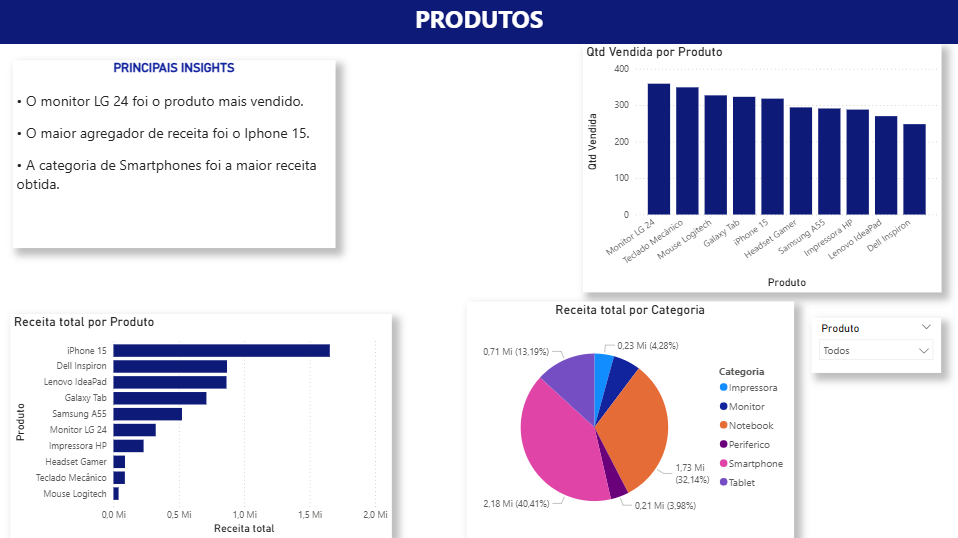

What the dashboard file says about the page in this screenshot:
{"tool":"powerbi","page":{"name":"Produtos","canvas":[1280,720],"ordinal":2},"visuals":[{"type":"textbox","box":[0,0,1280,60],"z":0},{"type":"clusteredBarChart","fields":{"Category":["Produtos.Produto"],"Y":["Vendas.Receita total"]},"box":[14.7,420.7,508.7,299.6],"z":1000},{"type":"columnChart","fields":{"Category":["Produtos.Produto"],"Y":["Vendas.Qtd Vendida"]},"box":[777.7,59.9,478.1,331.4],"z":2000},{"type":"pieChart","fields":{"Y":["Vendas.Receita total"],"Series":["Produtos.Categoria"]},"box":[623.6,403.5,436.6,316.7],"z":3000},{"type":"slicer","fields":{"Values":["Produtos.Produto"]},"box":[1083.4,424.3,172.4,73.4],"z":4000},{"type":"textbox","title":"PRINCIPAIS INSIGHTS","box":[17.5,81.2,430,250],"z":4001}]}

Visuals, with their boxes in screenshot pixels (x1, y1, x2, y2), scaled from the page's 1280x720 canvas onto the 958x538 screenshot:
textbox: [x1=0, y1=0, x2=957, y2=45]
clusteredBarChart - Produtos.Produto x Vendas.Receita total: [x1=11, y1=314, x2=392, y2=537]
columnChart - Produtos.Produto x Vendas.Qtd Vendida: [x1=582, y1=45, x2=940, y2=292]
pieChart - Vendas.Receita total x Produtos.Categoria: [x1=467, y1=302, x2=793, y2=537]
slicer - Produtos.Produto: [x1=811, y1=317, x2=940, y2=372]
"PRINCIPAIS INSIGHTS" textbox: [x1=13, y1=61, x2=335, y2=247]
